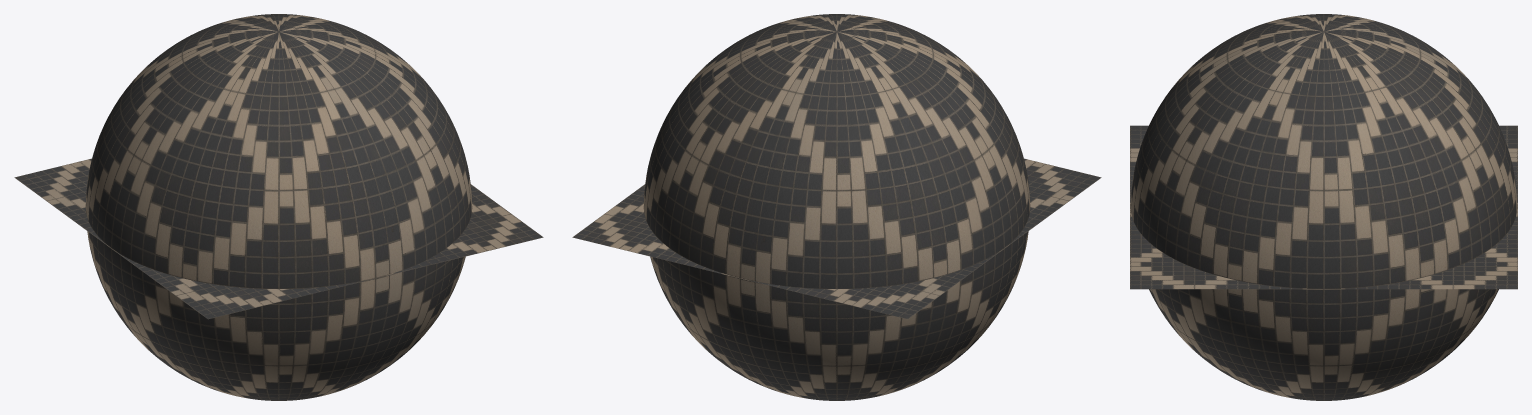
The model's file is patterned_brick_wall_03_2k.fbx.
3 views of the same model, side by side, from view 1: azimuth 30°, elevation 25°; view 2: azimuth 150°, elevation 25°; view 3: azimuth 270°, elevation 25° (orthographic).
Visible parts, largest first — view 1: Sphere, Plane; view 2: Sphere, Plane; view 3: Sphere, Plane.
Boxes of the visible parts, x1,y1,x2,y2 form: Sphere: (85,14,472,400); Plane: (14,158,543,319); Sphere: (643,14,1030,400); Plane: (572,158,1101,319); Sphere: (1130,14,1517,400); Plane: (1130,125,1517,289).
Bounding box in the file's own units: 180 × 180 × 180.
